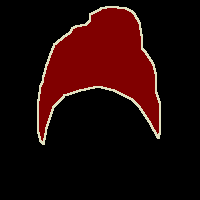hat: (38, 6, 160, 144)
